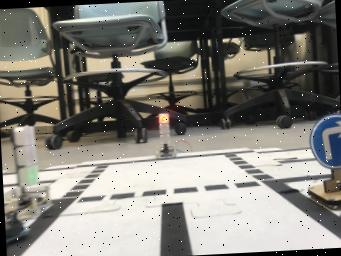right: (307, 113, 341, 206), (307, 113, 341, 206), (307, 113, 341, 206)
street: (6, 148, 341, 256), (6, 148, 341, 256), (6, 148, 341, 256), (2, 171, 17, 193), (2, 171, 17, 193), (2, 171, 17, 193)
traffic_light: (3, 125, 50, 220), (3, 125, 50, 220), (3, 125, 50, 220), (155, 113, 176, 157), (155, 113, 176, 157), (155, 113, 176, 157)
